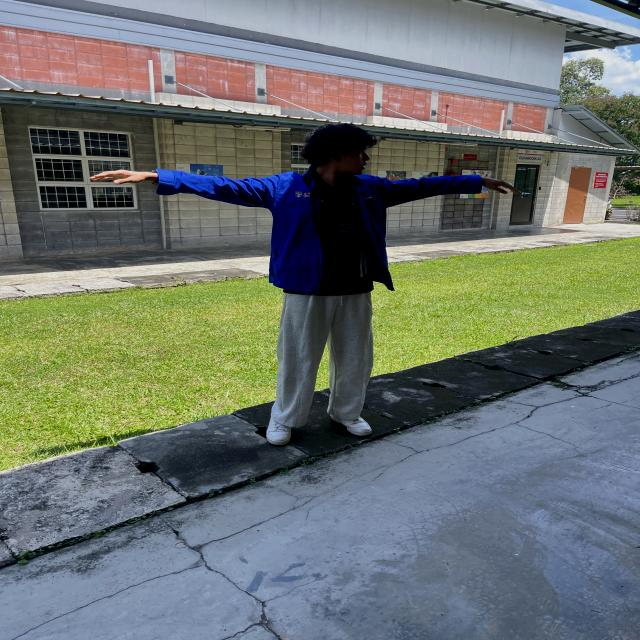person_with_labcoat: (94, 124, 515, 446)
